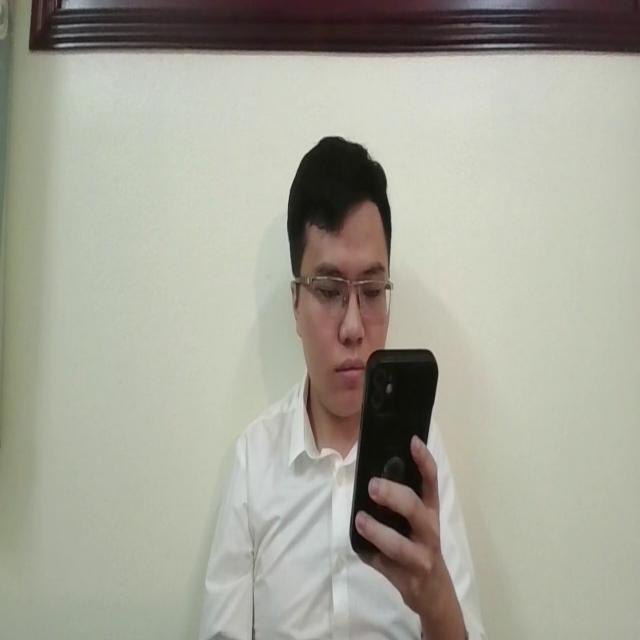phone: (344, 345, 439, 562)
student: (205, 128, 488, 640)
